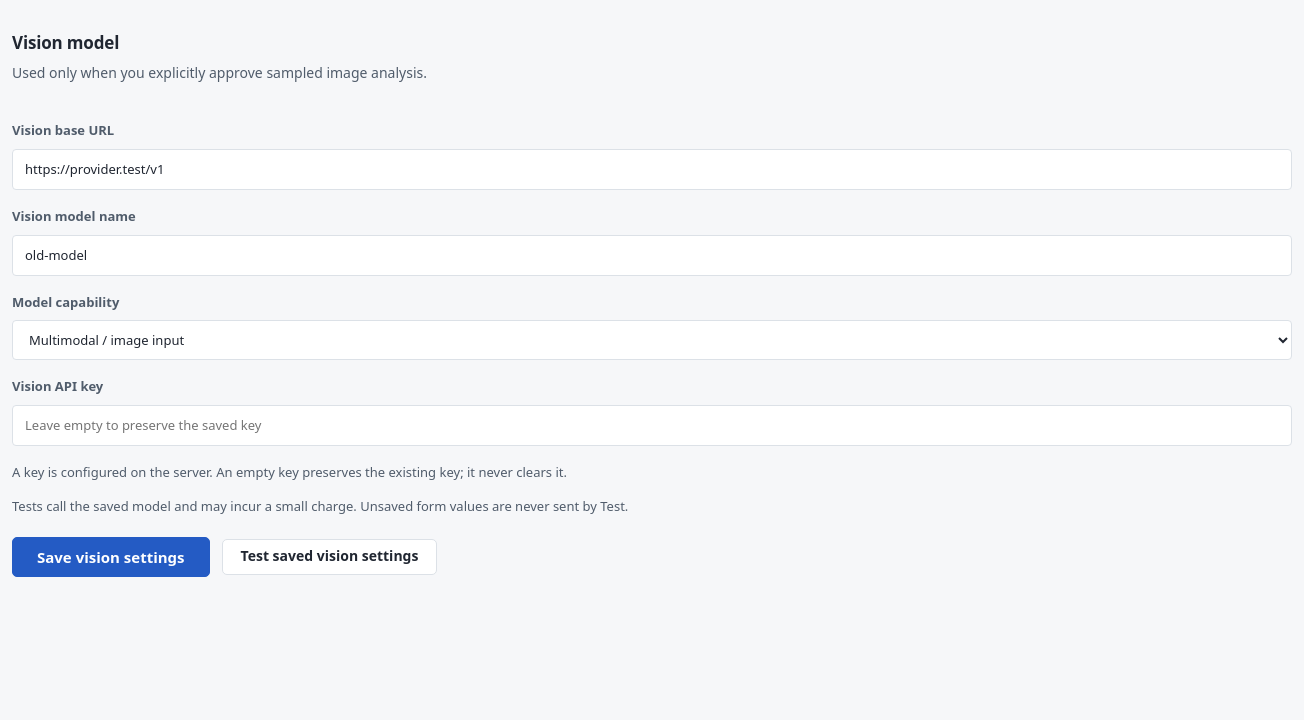
it: reports model test errors without reporting success
Click the button "Test saved vision settings" at (329, 557), box [222,539,437,575]
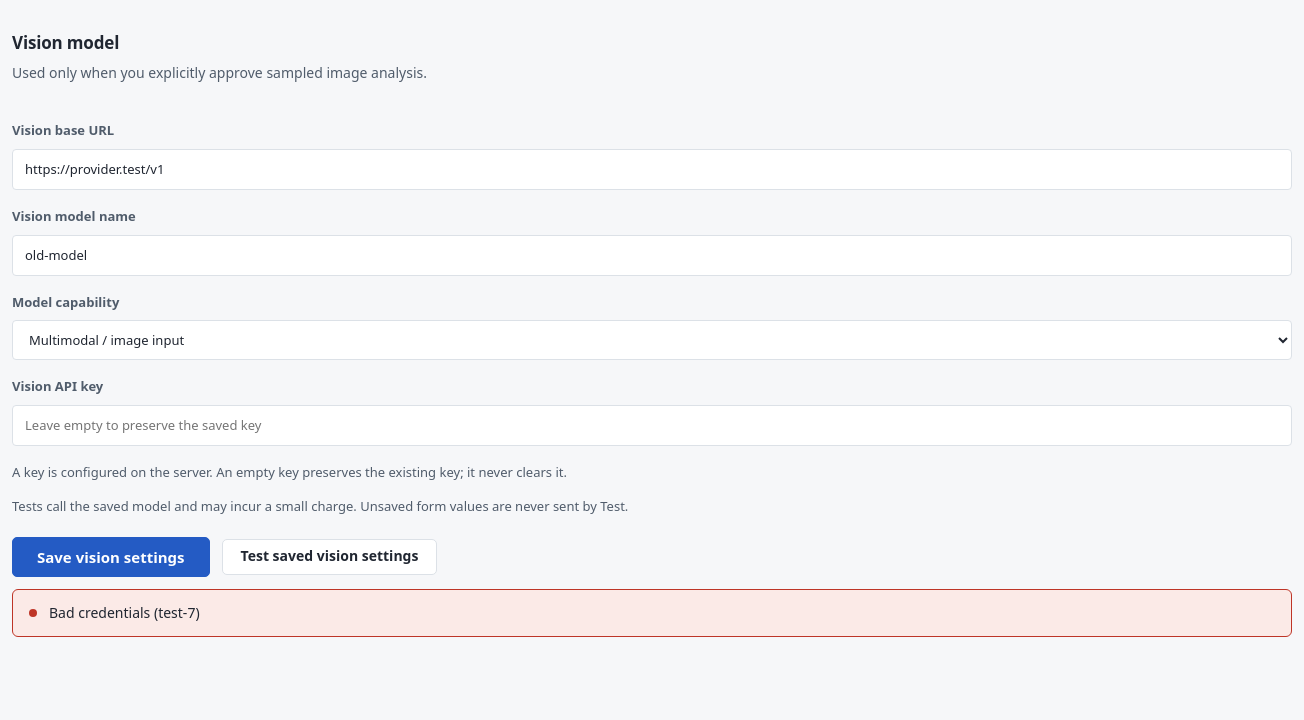
Expected: the message reads "Bad credentials (test-7)", [49,603,200,622]
